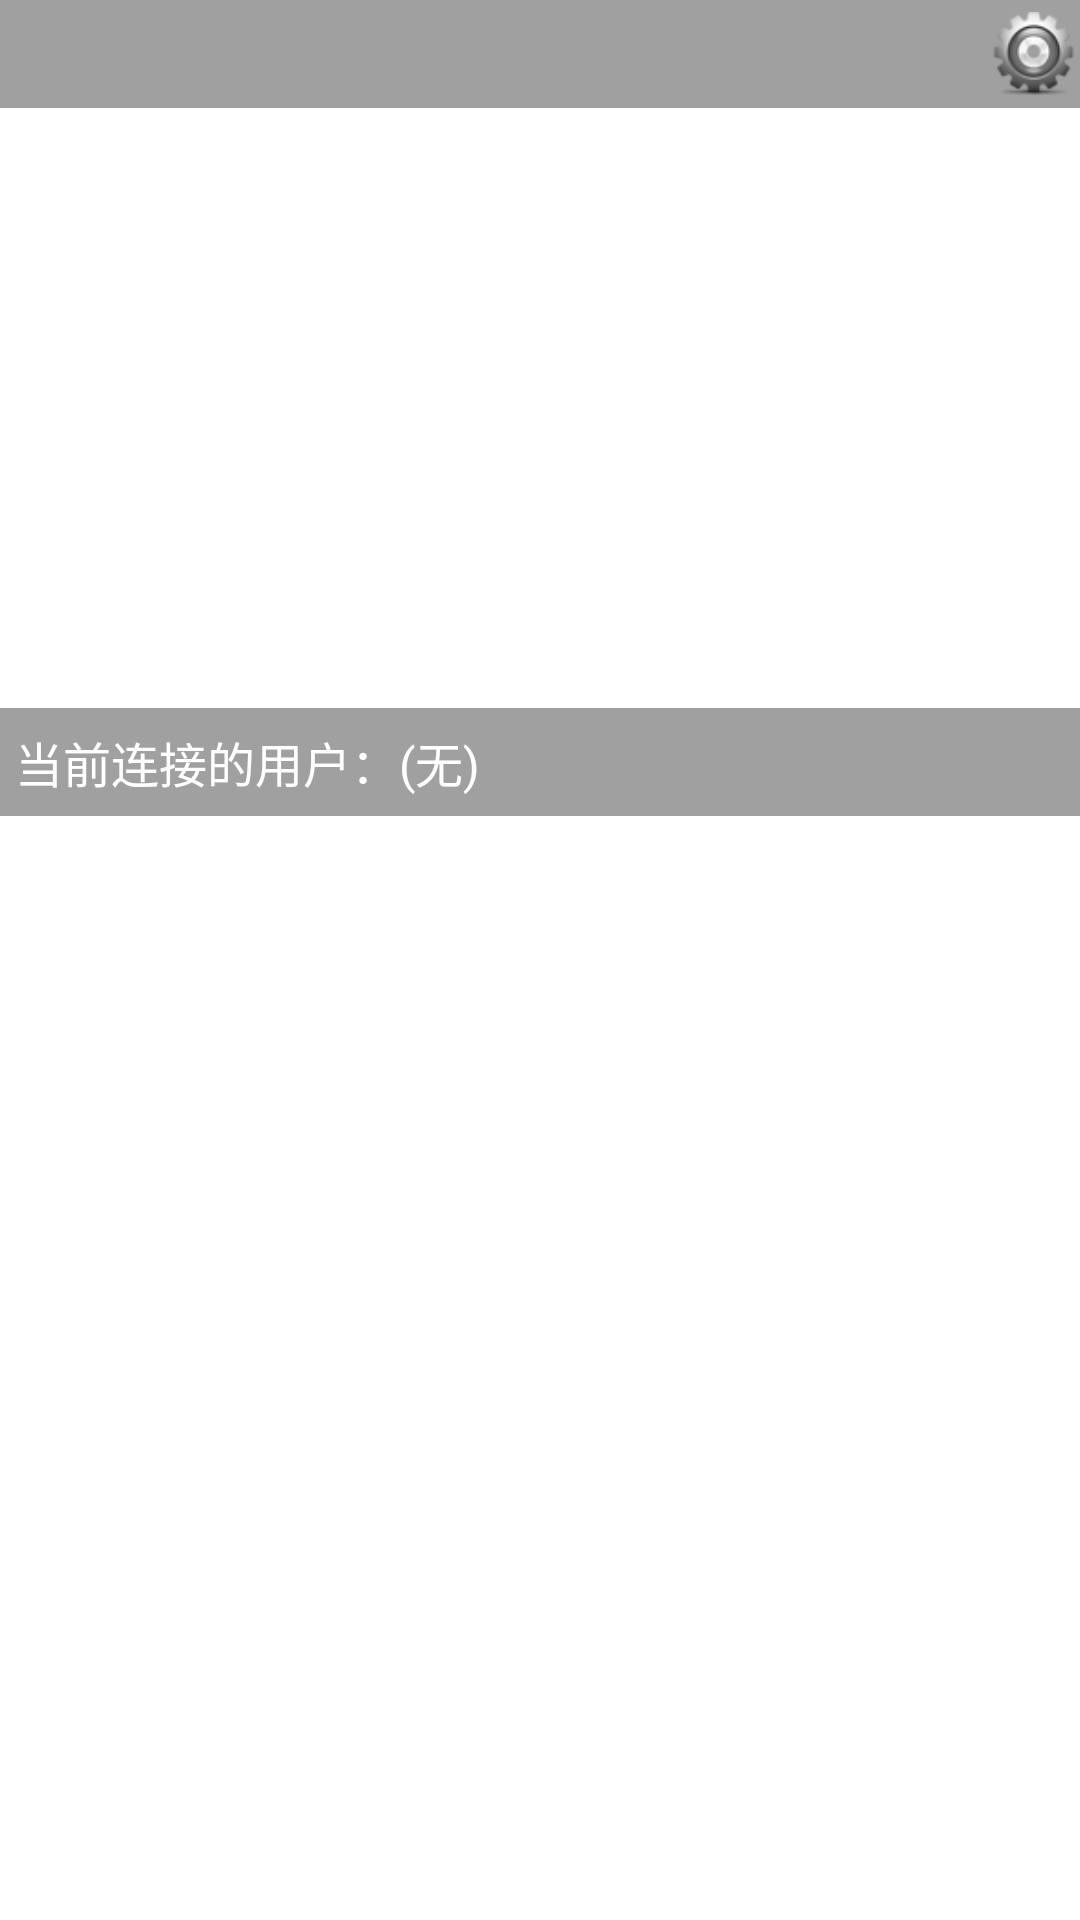

Locate icon controls on the screen. Image size 1080px x 1920px, boxes as (x1, y1, x2, y2).
setting: (994, 12, 1073, 94)
